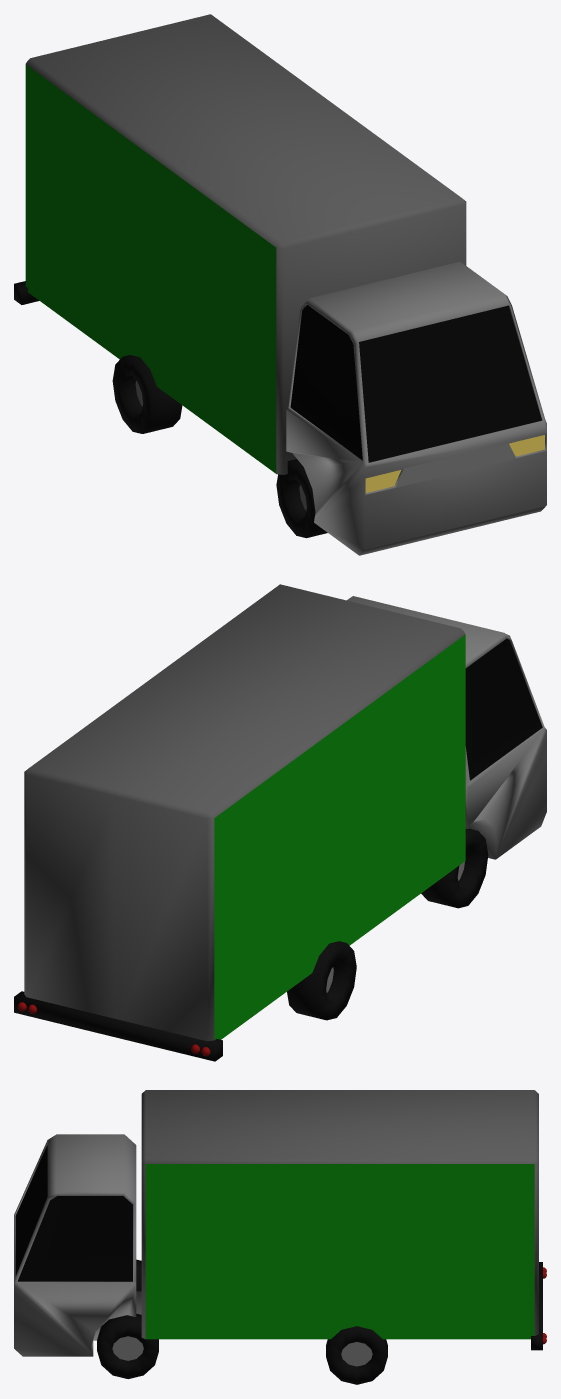
Rendered from truck.obj.
The picture shows the model from 3 angles, top to bottom: view 1: azimuth 30°, elevation 25°; view 2: azimuth 150°, elevation 25°; view 3: azimuth 270°, elevation 25°; orthographic projection. The views are drawn at different scales.
Visible parts, largest first — view 1: Box, Pub2, Body, Window, Rubber, lightFront; view 2: Box, Pub2, Body, Window, Rubber, RearBumper; view 3: Pub1, Box, Body, Window, Rubber, Wheel, RearBumper.
Boxes of the visible parts, x1=… form: Box: x1=26, y1=14, x2=466, y2=474; Pub2: x1=25, y1=64, x2=276, y2=473; Body: x1=286, y1=261, x2=546, y2=555; Window: x1=290, y1=305, x2=541, y2=462; Rubber: x1=112, y1=355, x2=327, y2=538; lightFront: x1=365, y1=435, x2=544, y2=492; Box: x1=24, y1=584, x2=465, y2=1041; Pub2: x1=214, y1=634, x2=465, y2=1040; Body: x1=347, y1=596, x2=546, y2=859; Window: x1=465, y1=638, x2=542, y2=780; Rubber: x1=287, y1=828, x2=488, y2=1020; RearBumper: x1=14, y1=991, x2=222, y2=1061; Pub1: x1=145, y1=1164, x2=534, y2=1339; Box: x1=141, y1=1090, x2=538, y2=1338; Body: x1=14, y1=1134, x2=141, y2=1356; Window: x1=15, y1=1145, x2=132, y2=1281; Rubber: x1=97, y1=1259, x2=387, y2=1384; Wheel: x1=112, y1=1336, x2=372, y2=1366; RearBumper: x1=531, y1=1262, x2=542, y2=1350.
Size of the model in its own units: 2.81 by 3.76 by 8.18.
